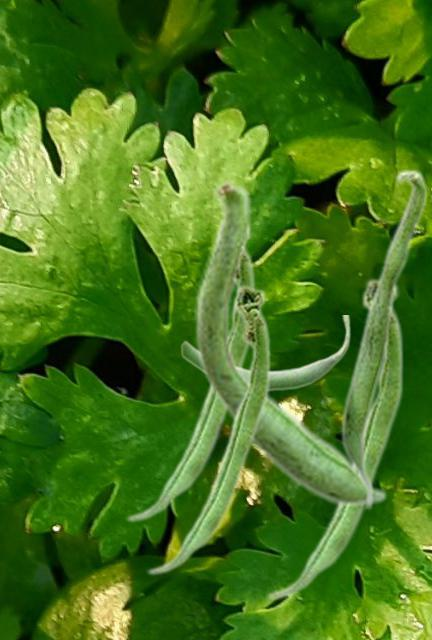french_bean: (194, 177, 387, 507), (265, 276, 403, 600), (125, 232, 255, 522), (146, 283, 270, 575), (340, 168, 427, 511), (180, 315, 350, 391)
